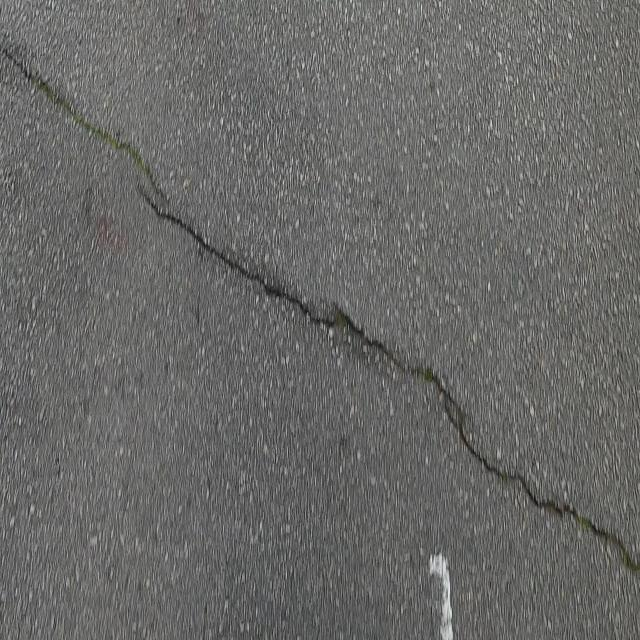Retak-Melintang: (133, 171, 640, 585), (0, 38, 174, 208)
